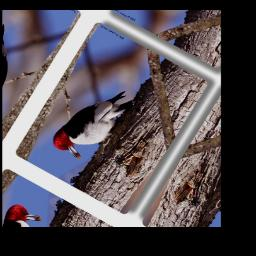Woodpecker: (48, 74, 138, 170)
